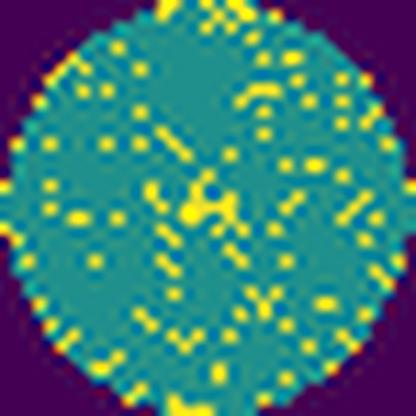Center: (172, 163, 245, 233)
